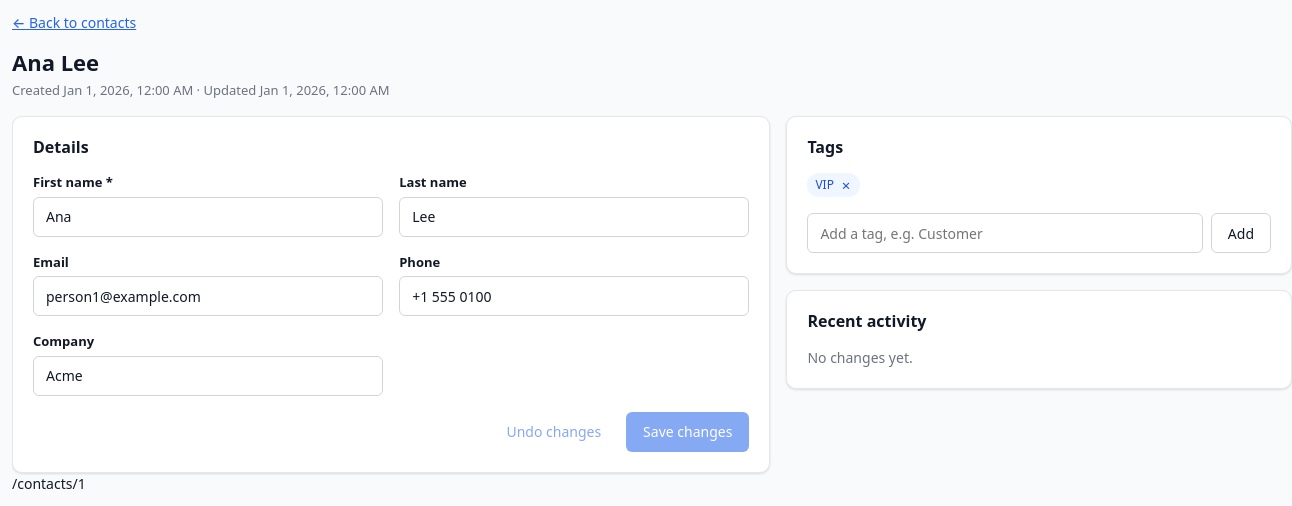
Test: ContactDetailPage › adds and removes tags
This screenshot has width=1292, height=506.
expect the heading "Ana Lee" is shown: met, box [12,47,99,77]
Type "vip" into the field labelled "Add a tag" at (1005, 233), box [807,213,1203,253]
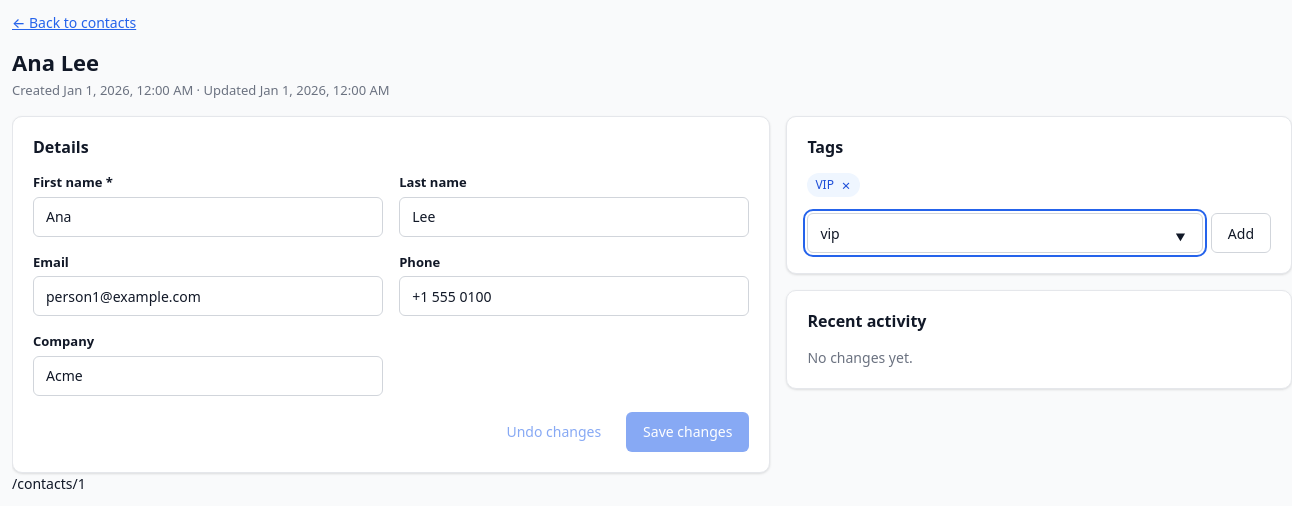
Click the button "Add" at (1241, 233), box [1211,213,1271,253]
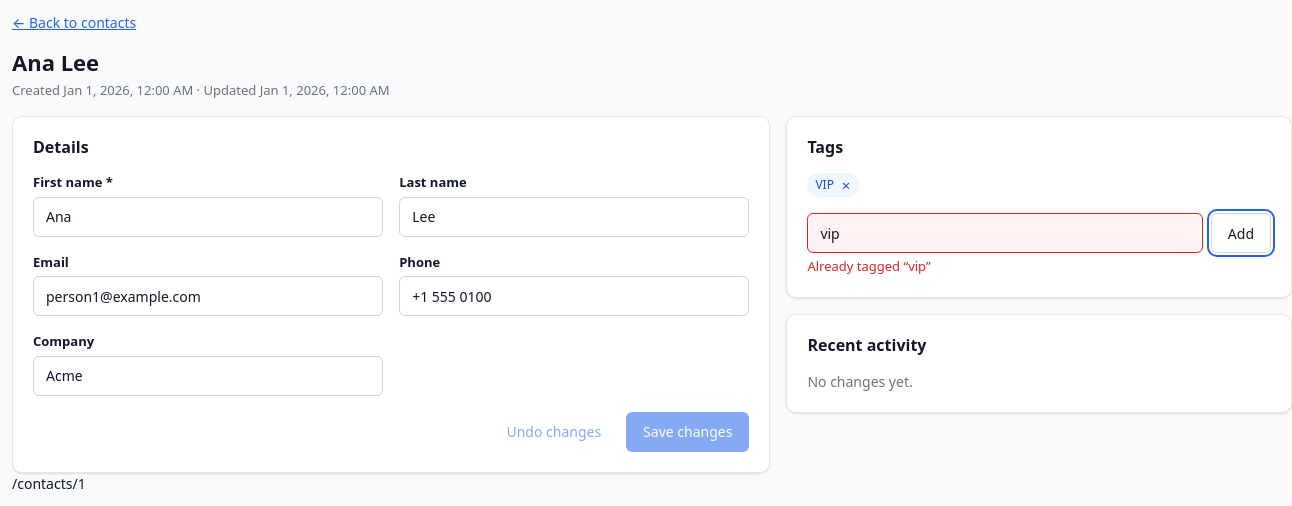
expect the text "Already tagged “vip”" is shown: met, box [807,257,931,275]
Replace the text in the 3rd field with "Lead" at (1005, 233), box [807,213,1203,253]
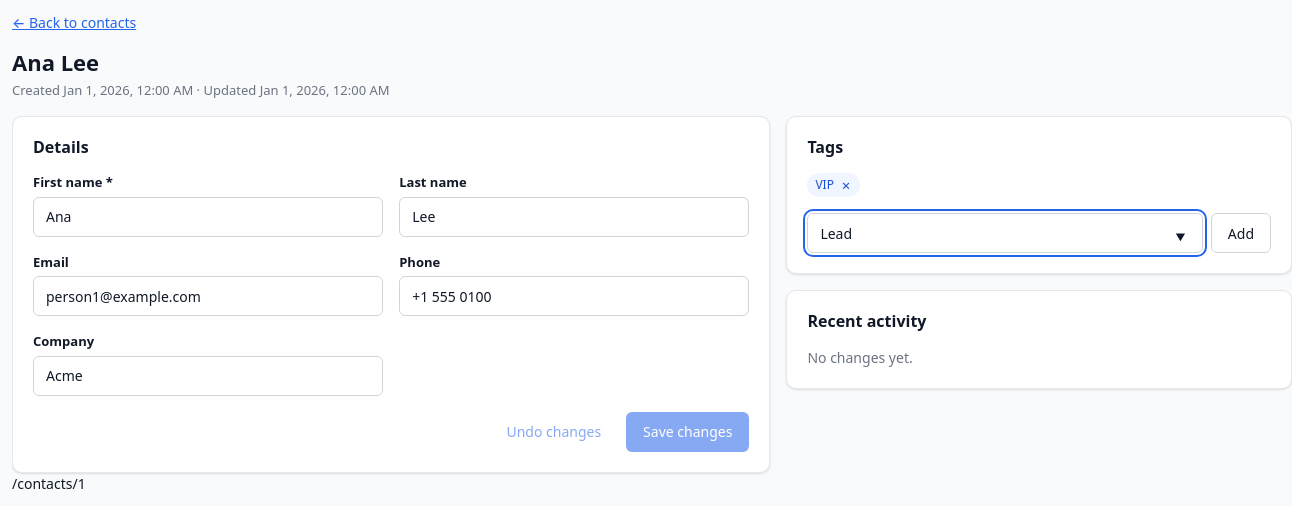
Click the button "Add" at (1241, 233), box [1211,213,1271,253]
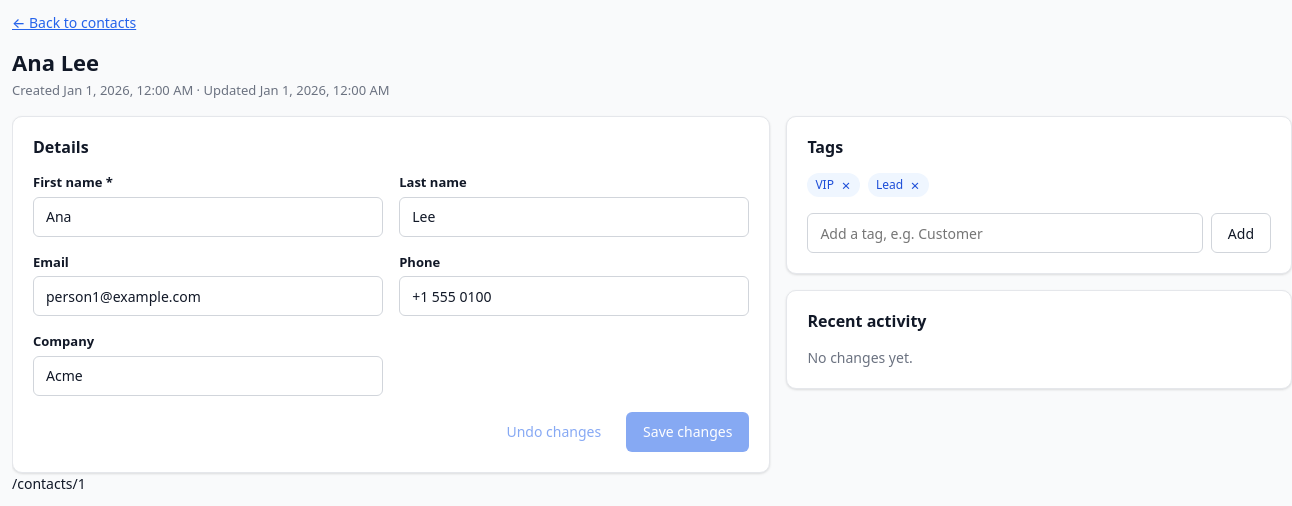
expect the text "Lead" is shown: met, box [876,176,903,193]
Click the button named "Remove tag VIP" at (846, 185), box [836,175,856,195]
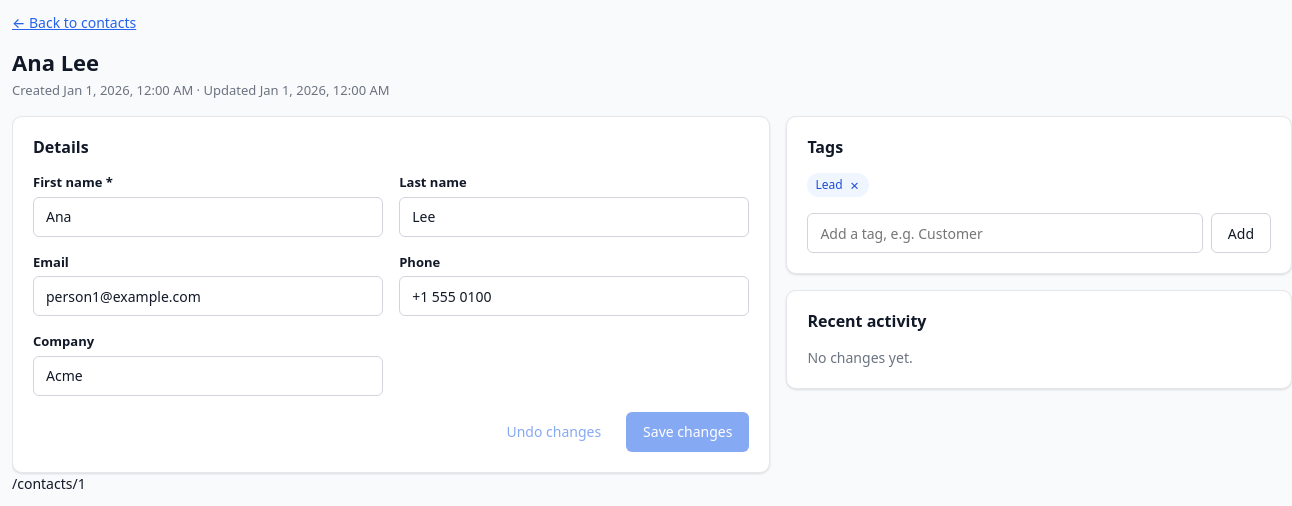
expect the text "VIP" is gone: met
